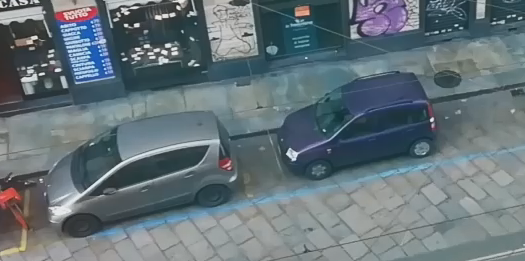Car: (42, 110, 242, 241), (275, 68, 440, 181)
